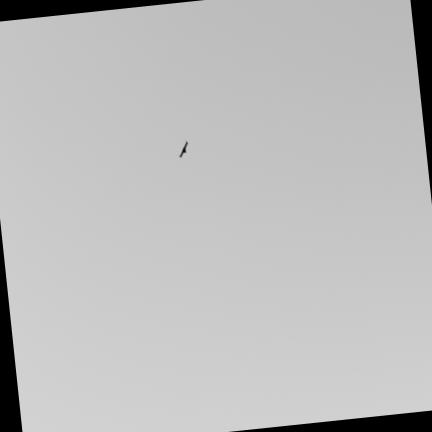Shahed: (178, 141, 187, 157)
